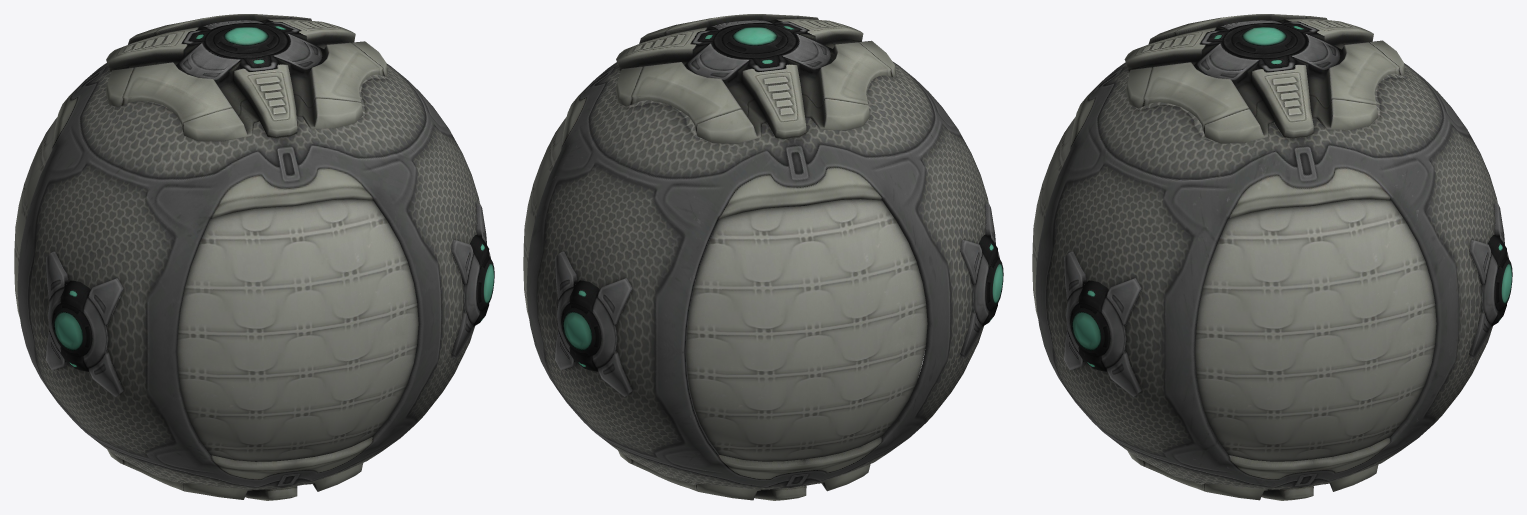
Rendered from ball_for_website.glb.
The picture shows the model from 3 angles, left to right: view 1: azimuth 30°, elevation 25°; view 2: azimuth 150°, elevation 25°; view 3: azimuth 270°, elevation 25°; orthographic projection.
Parts seen in each view (by area): view 1: Ball; view 2: Ball; view 3: Ball.
Part boxes in pixels (x1,y1,x2,y2): Ball: (14, 14, 494, 500); Ball: (523, 14, 1003, 500); Ball: (1032, 14, 1512, 500).
Size of the model in its own units: 185 by 189 by 185.
Materials: 1 (1 with a texture image).
